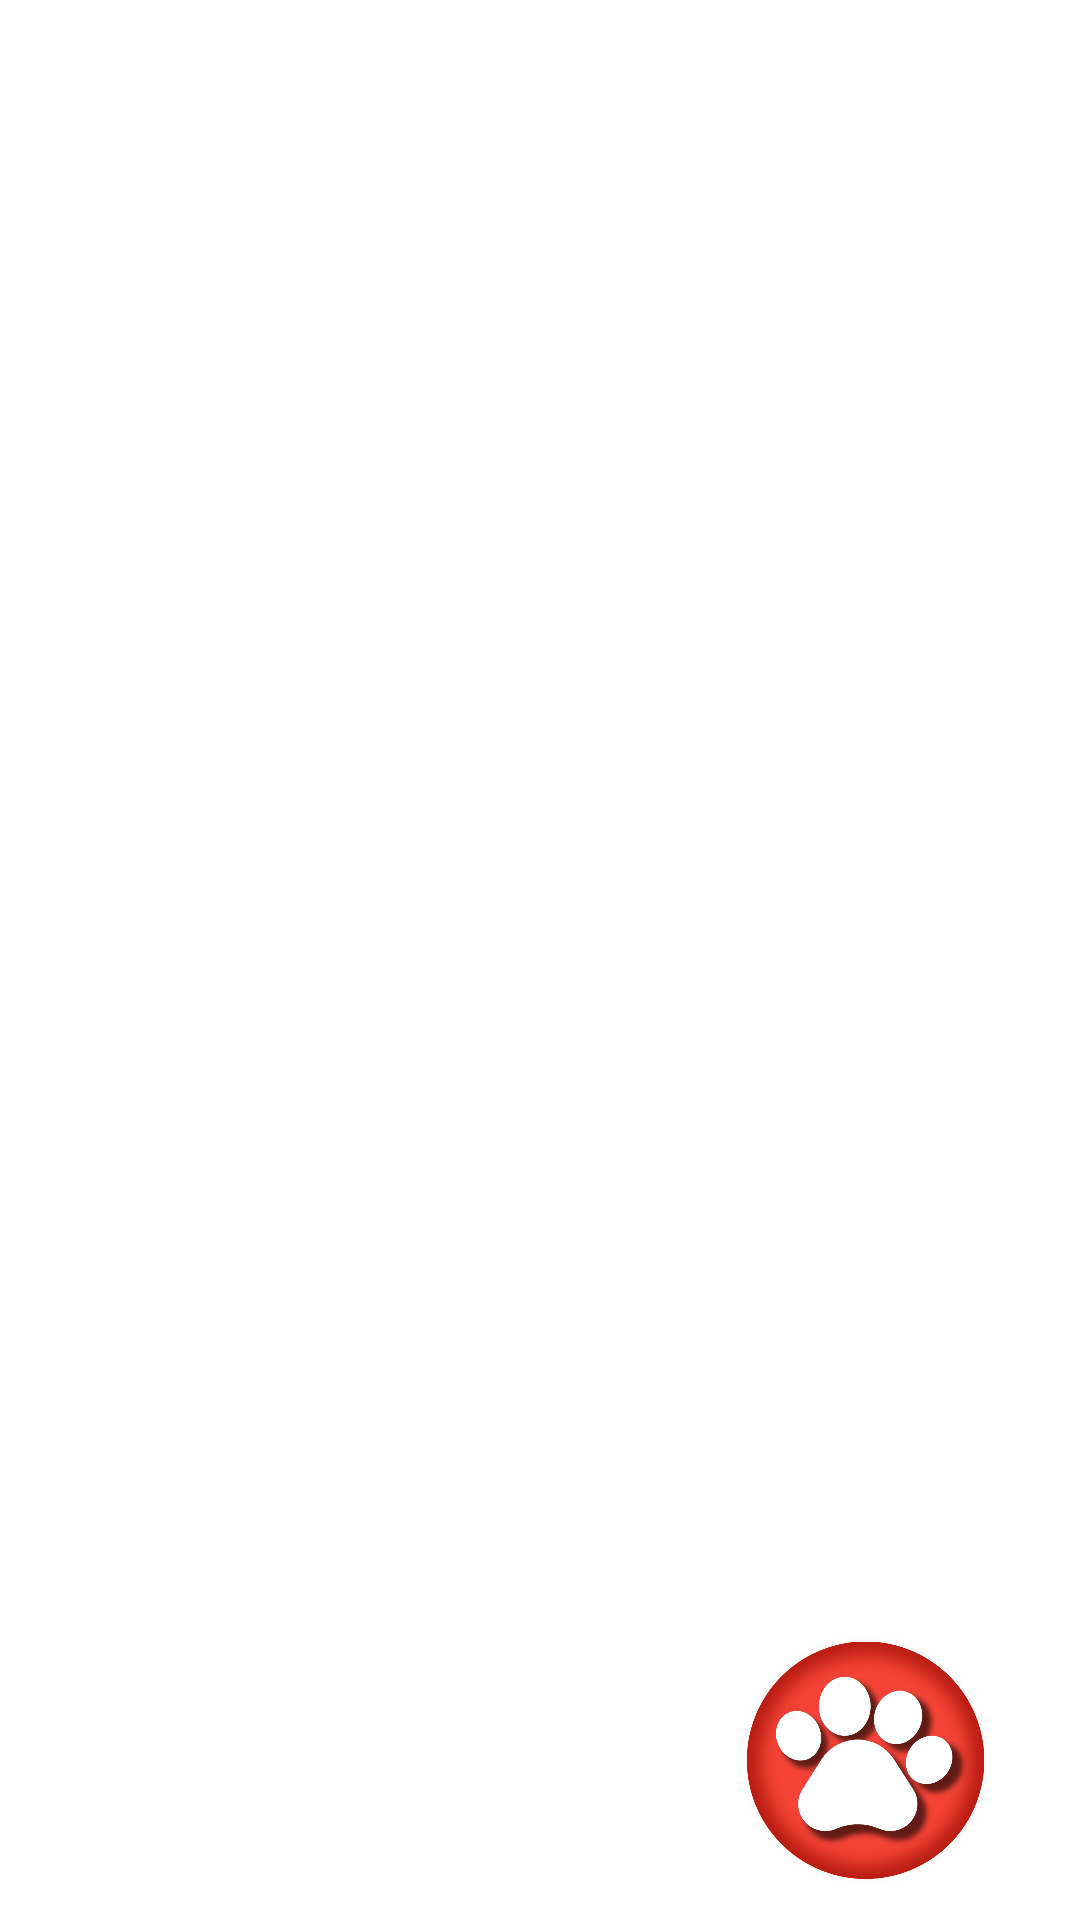

Named icons in this screenshot (1080*1920) and their bounding boxes, detection(x1, y1, x2, y2):
botonhuella: detection(747, 1642, 984, 1879)
